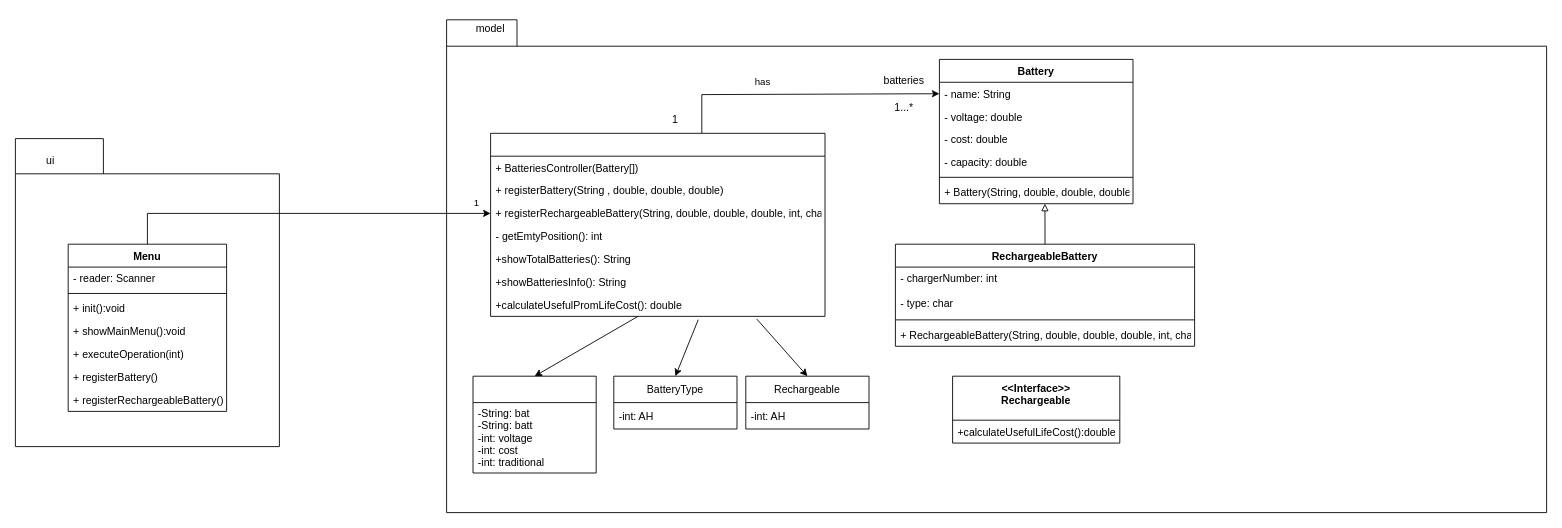
Some shapes in this 1562 by 528 pixel diagram are drawn without their labels. The box of each missing label's shape, as (x1, y1, x2, y2) in pixels:
Batteris: (472, 375, 596, 473)
Company: (490, 132, 825, 316)
